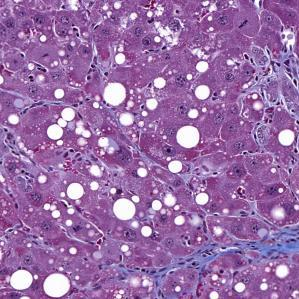fibrosis: (193, 223, 299, 268)
